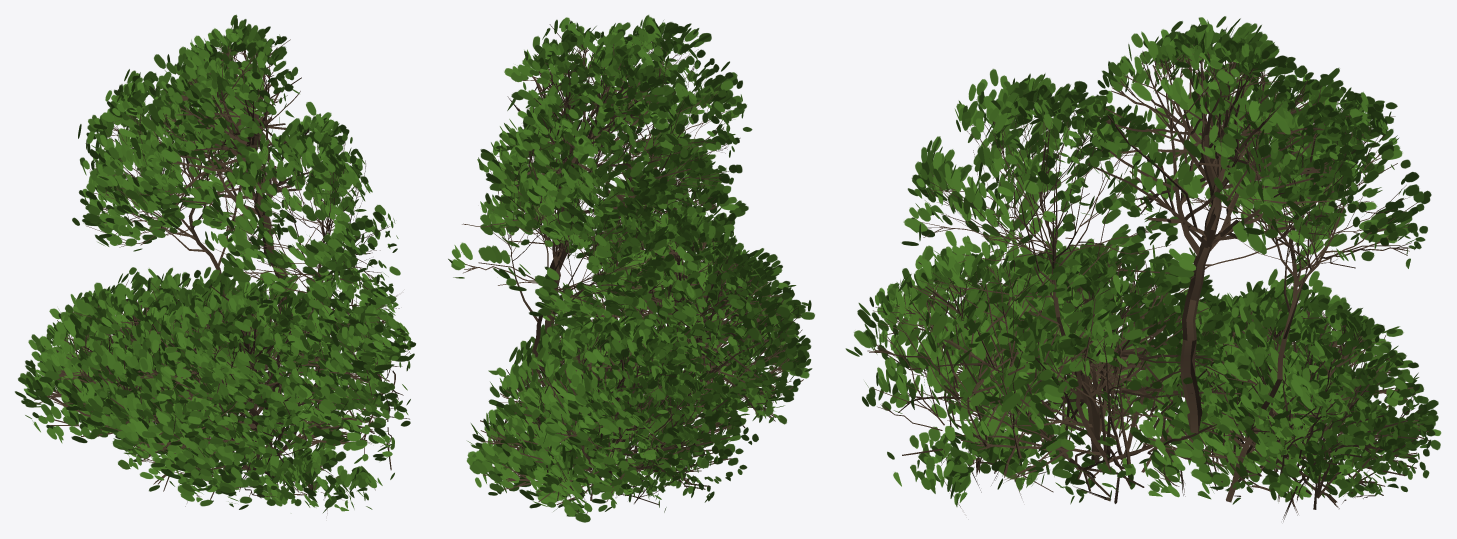
3 renders of one model, left to right at view 1: azimuth 30°, elevation 25°; view 2: azimuth 150°, elevation 25°; view 3: azimuth 270°, elevation 25°, orthographic. The views are drawn at different scales.
Parts seen in each view (by area): view 1: oak 01.001_trunk_Mat.001_0.446; view 2: oak 01.001_trunk_Mat.001_0.446; view 3: oak 01.001_trunk_Mat.001_0.446.
Boxes of the visible parts, x1,y1,x2,y2 form: oak 01.001_trunk_Mat.001_0.446: [15, 14, 415, 513]; oak 01.001_trunk_Mat.001_0.446: [448, 15, 814, 522]; oak 01.001_trunk_Mat.001_0.446: [845, 16, 1441, 521].
Bounding box in the file's own units: 2.55 × 4.17 × 4.56.
2 materials, 1 textured.
